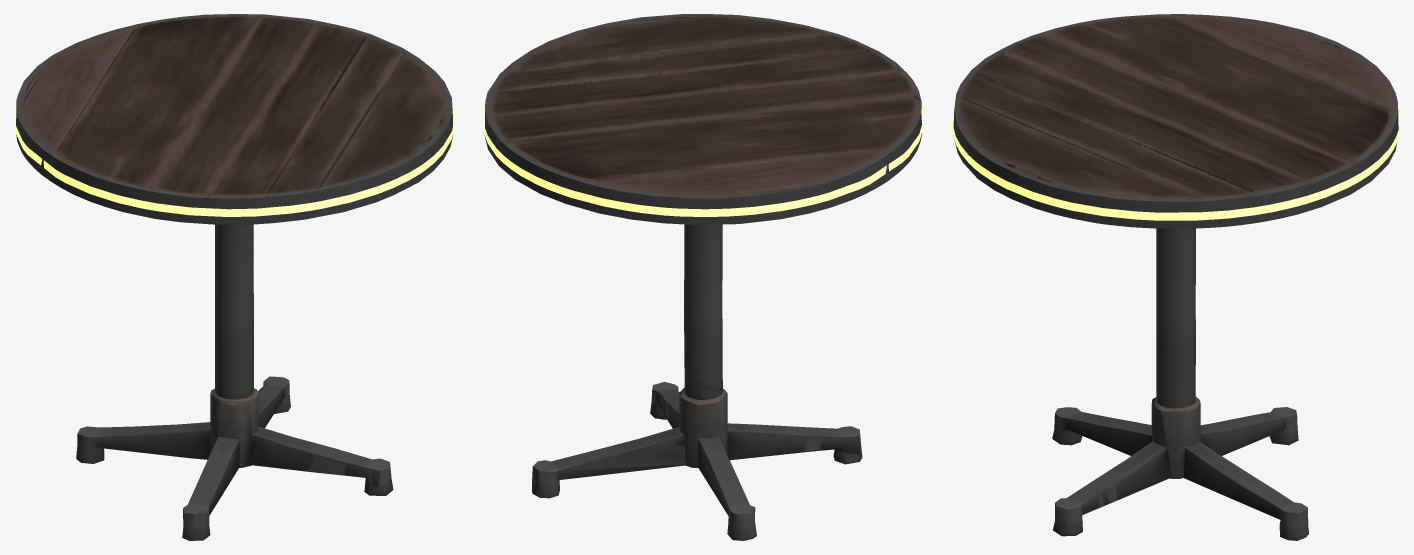
Rendered from cafe_table.glb.
3 renders of one model, left to right at view 1: azimuth 30°, elevation 25°; view 2: azimuth 150°, elevation 25°; view 3: azimuth 270°, elevation 25°, orthographic. The views are drawn at different scales.
Parts seen in each view (by area): view 1: body, lights; view 2: body, lights; view 3: body, lights.
Boxes of the visible parts, bbox=[...] form: body: bbox=[16, 14, 452, 540]; lights: bbox=[14, 104, 454, 216]; body: bbox=[485, 14, 922, 540]; lights: bbox=[483, 104, 923, 216]; body: bbox=[953, 14, 1398, 540]; lights: bbox=[952, 103, 1399, 220].
Size of the model in its own units: 0.803 by 0.7498 by 0.8053.
2 materials, 1 textured.
